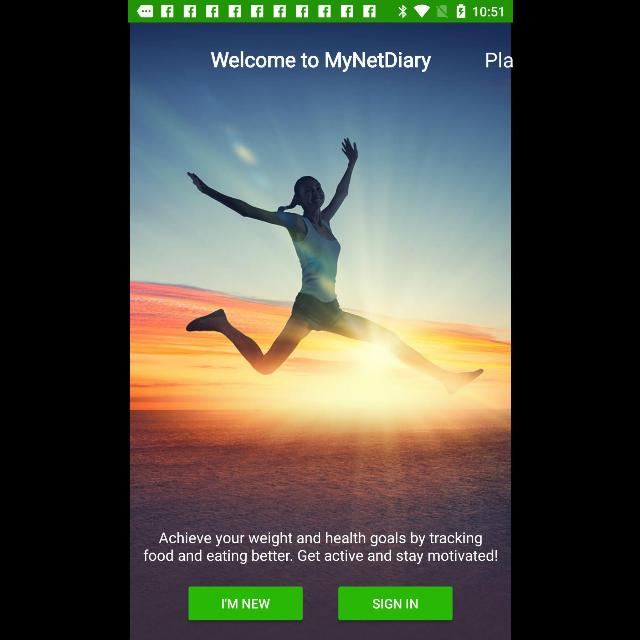backgroundimage: (128, 22, 512, 640)
text: (143, 532, 497, 564), (210, 52, 432, 72)
textbutton: (188, 586, 302, 620), (338, 586, 452, 620)
uppertaskbar: (128, 1, 512, 23)
